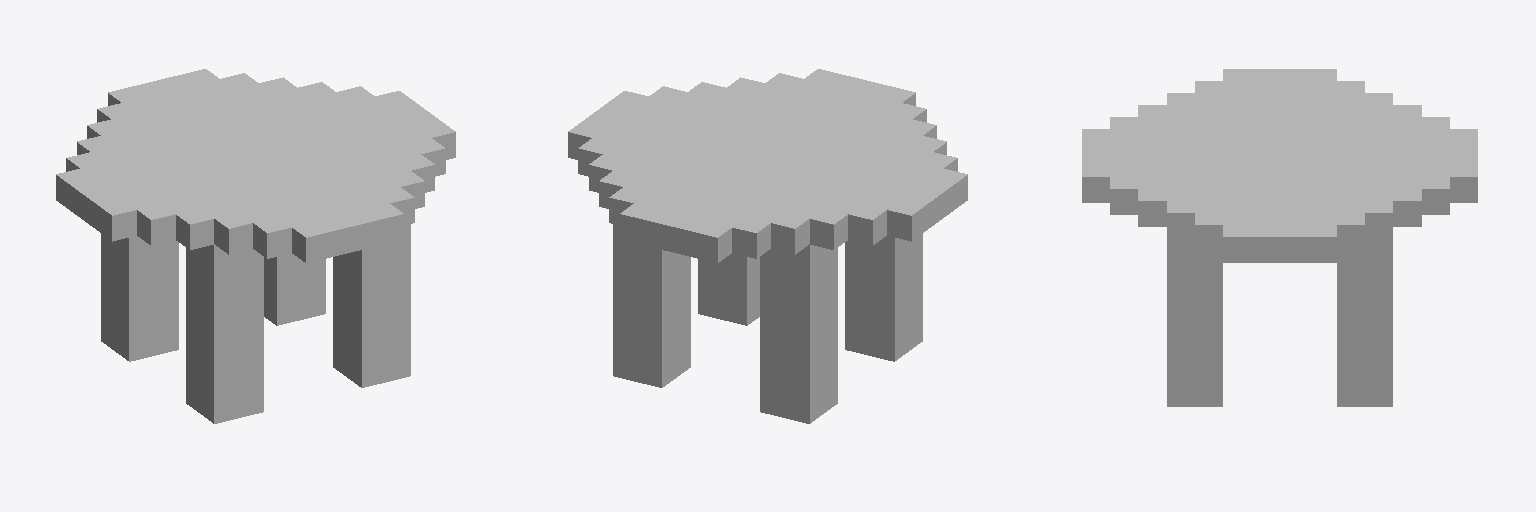
File: table.obj
The picture shows the model from 3 angles: view 1: azimuth 30°, elevation 25°; view 2: azimuth 150°, elevation 25°; view 3: azimuth 270°, elevation 25°; orthographic projection.
Visible parts, largest first — view 1: object 1; view 2: object 1; view 3: object 1.
Part boxes in pixels (left/top/right/bottom): object 1: left=56, top=69, right=455, bottom=423; object 1: left=568, top=69, right=967, bottom=423; object 1: left=1082, top=69, right=1477, bottom=406.
Bounding box in the file's own units: 1.4 × 0.8 × 1.4.